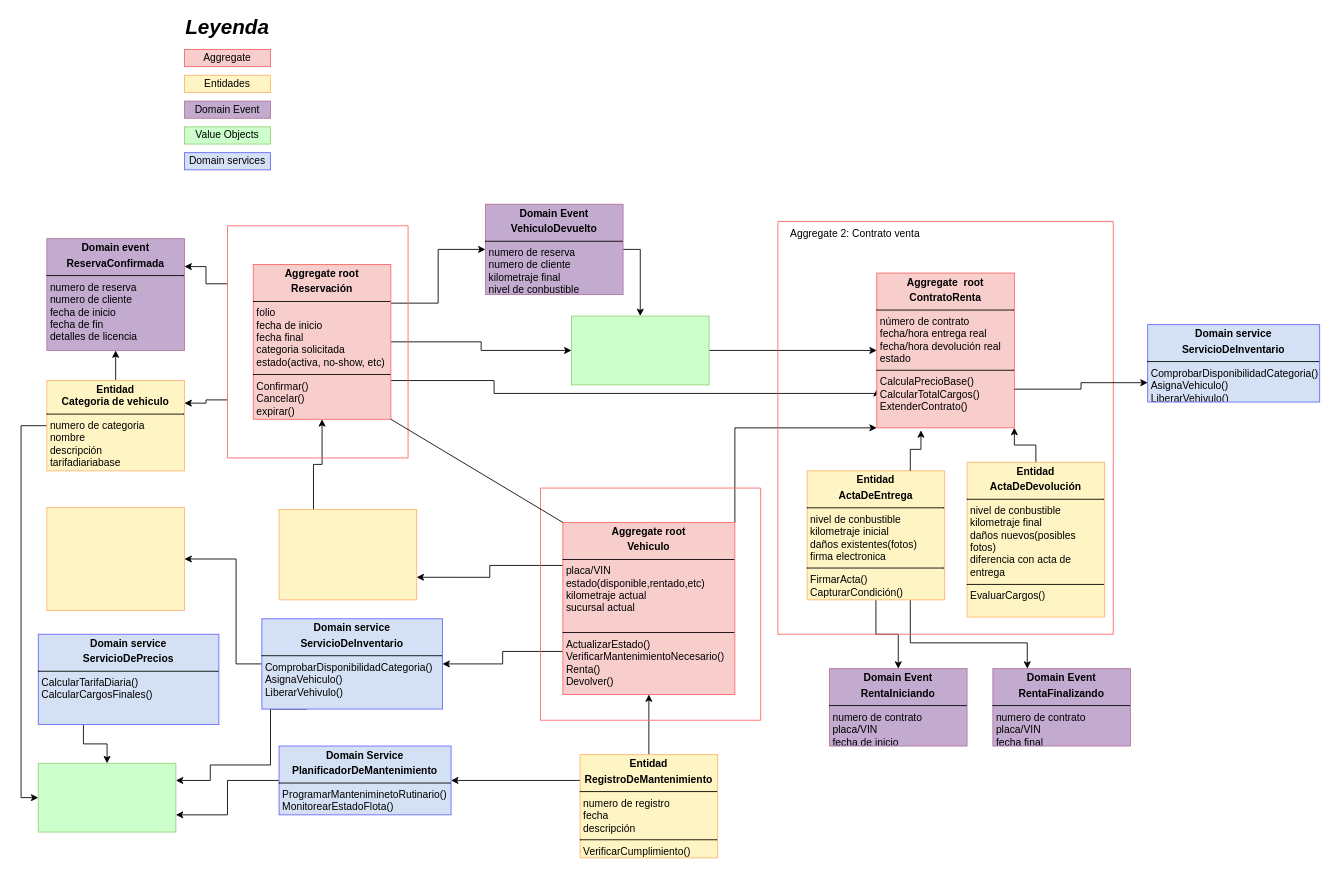
Image size: 1335x873. Some labels were removed from this diagram. Here are the shapes that lost their labels. From the top down, the centre of each, then its label:
At pixel 304 238: "Aggregate 1: Reservación".
At pixel 640 350: "Value object PeriodoRenta Fecha de inicio Fecha de fin".
At pixel 115 559: "Entidad Sucursal numero de sucursal nombre dirección información del contrato".
At pixel 347 554: "Entidad Cliente Identificación oficial licencia de conducir metodo de pago".
At pixel 650 603: "Aggregate 3: Vehiculo".
At pixel 106 797: "Value object Dirección calle codigo postal".
